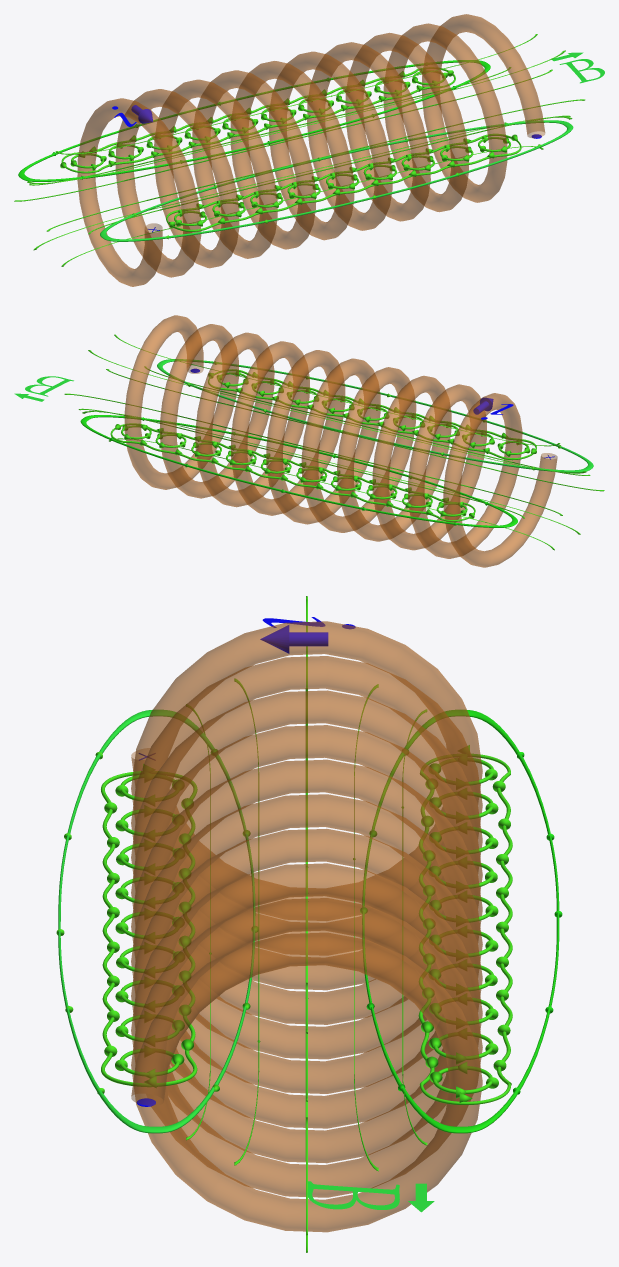
The model's file is Solenoide estirado.dae.
3 views of the same model, one above another, from view 1: azimuth 30°, elevation 25°; view 2: azimuth 150°, elevation 25°; view 3: azimuth 270°, elevation 25° (orthographic). The views are drawn at different scales.
Visible parts, largest first — view 1: Solenoide-estirado; view 2: Solenoide-estirado; view 3: Solenoide-estirado.
Boxes of the visible parts, x1,y1,x2,y2 form: Solenoide-estirado: [14, 14, 604, 286]; Solenoide-estirado: [14, 315, 604, 567]; Solenoide-estirado: [56, 596, 562, 1252].
Bounding box in the file's own units: 3.65 × 1.47 × 1.
